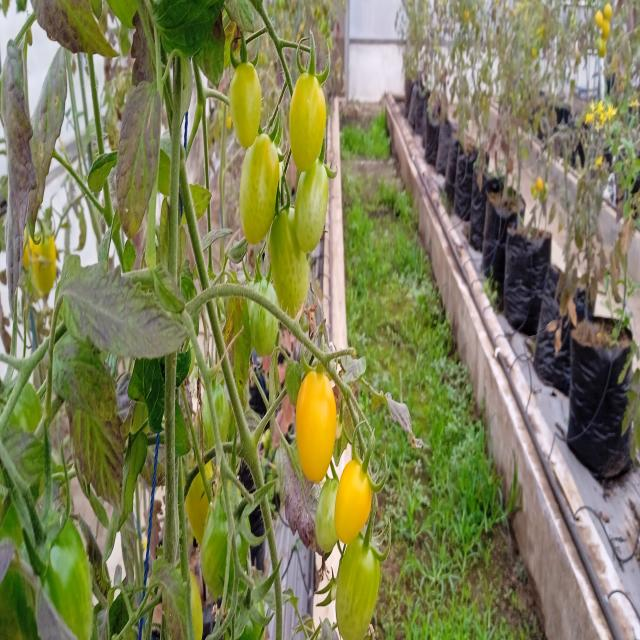fine: (291, 56, 328, 180), (348, 425, 378, 559), (225, 72, 273, 150), (241, 145, 276, 248), (303, 367, 333, 478)
unripe: (263, 230, 314, 317), (295, 162, 334, 267), (343, 535, 379, 634)
